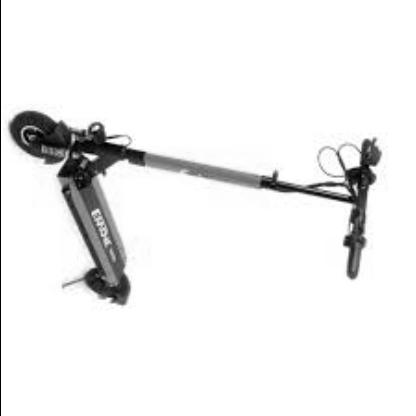bike: (9, 109, 396, 309), (9, 110, 145, 306)
